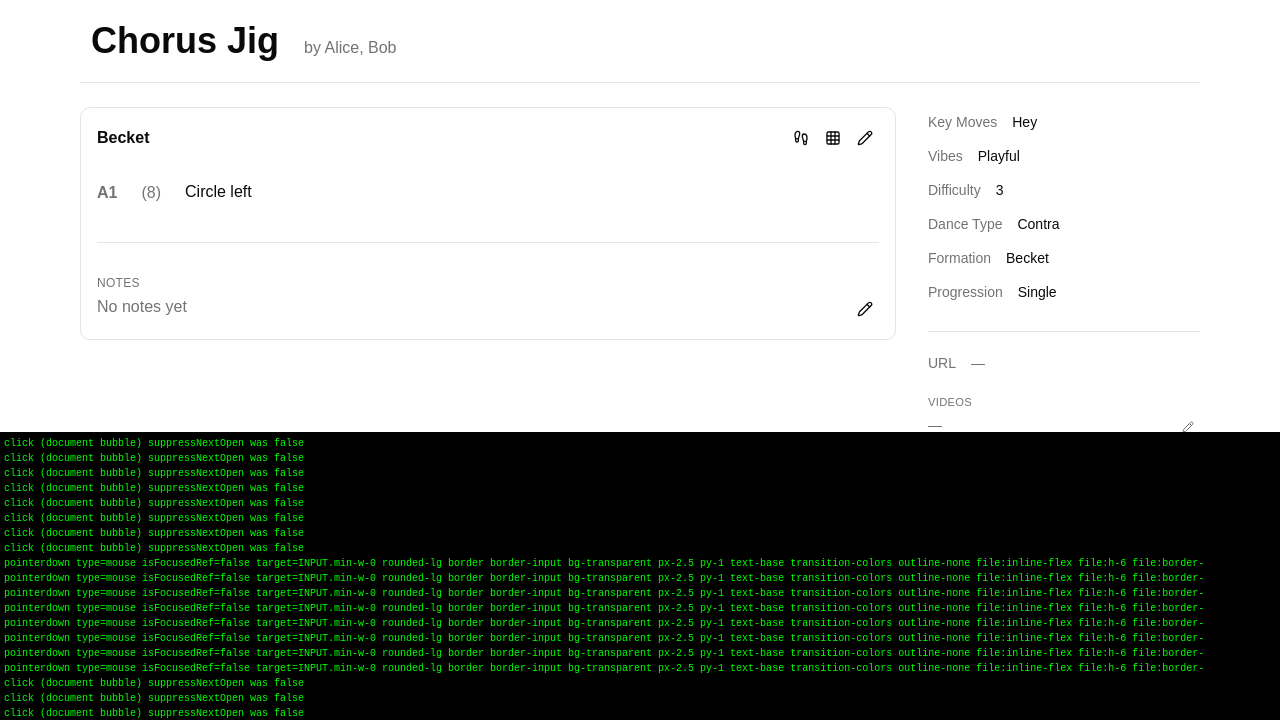
Test: DanceDetailPage › toggles the figures list between view and edit mode via the Edit figures button, showing Manual phrasing only in edit mode
The width and height of the screenshot is (1280, 720).
Click the button named "Edit figures": [865, 138] box x1=851 y1=124 x2=879 y2=152
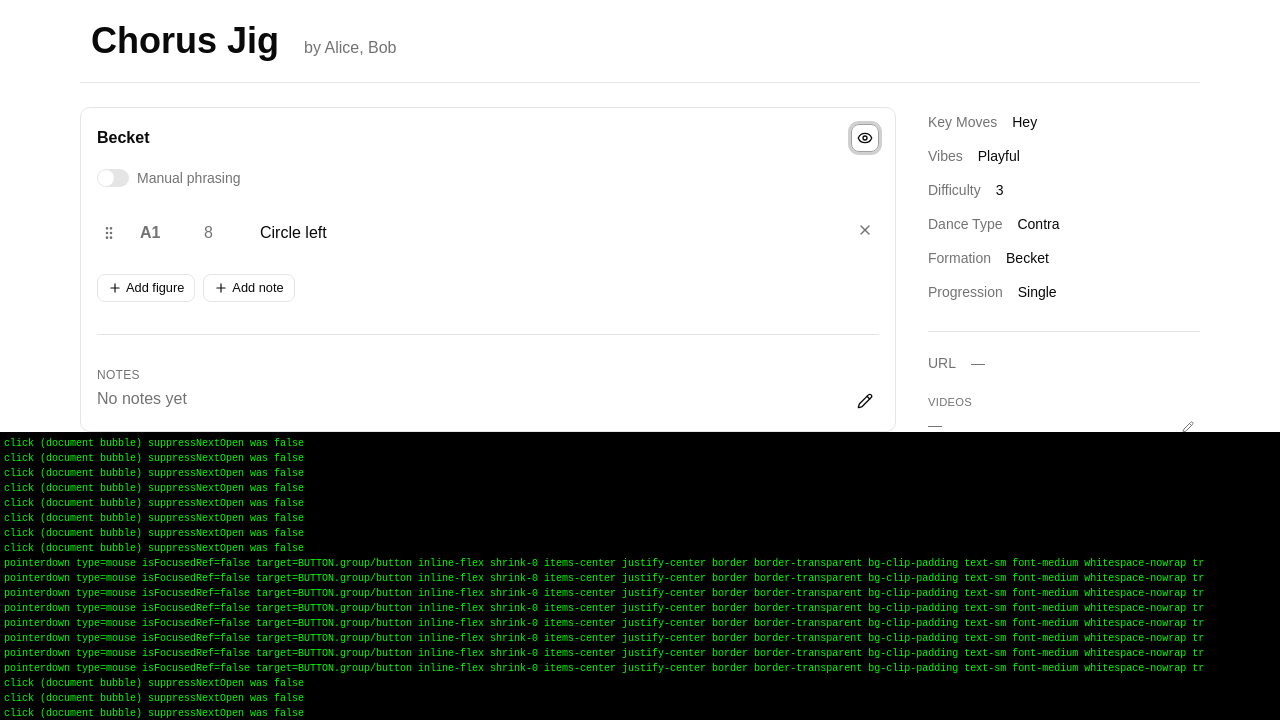
Expected: the button named "Reorder figure" is shown, x1=97 y1=216 x2=121 y2=250
Expected: the button "Add figure" is shown, x1=97 y1=274 x2=195 y2=302
Expected: the switch is shown, x1=97 y1=169 x2=129 y2=187
Click the button named "Done editing figures": [865, 138] box x1=851 y1=124 x2=879 y2=152
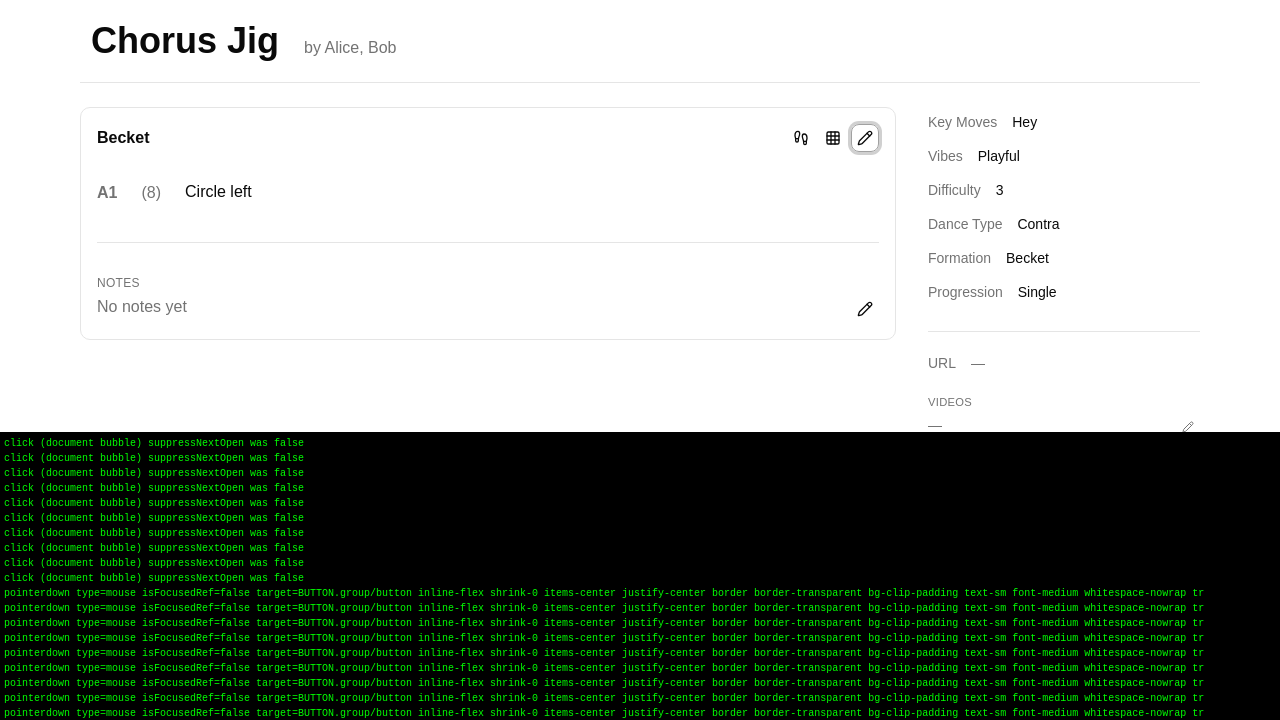
Expected: the switch is gone
